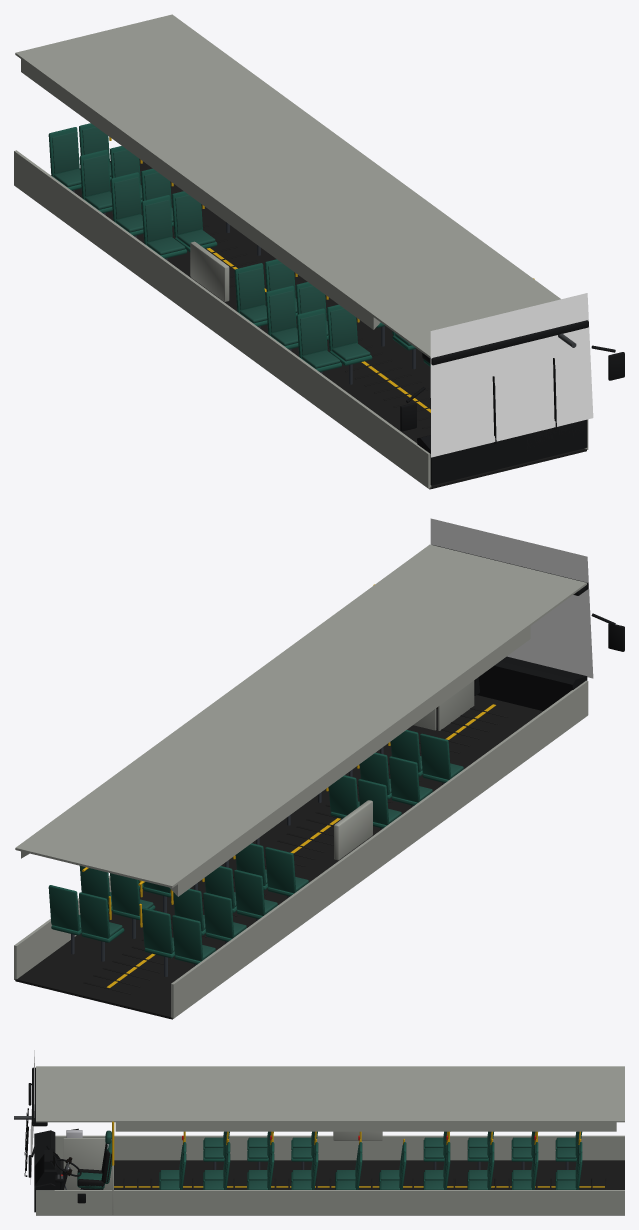
File: interior-bus.glb
3 views of the same model, one above another, from view 1: azimuth 30°, elevation 25°; view 2: azimuth 150°, elevation 25°; view 3: azimuth 270°, elevation 25° (orthographic). The views are drawn at different scales.
Parts seen in each view (by area): view 1: Cabin, RainGlass; view 2: Cabin, RainGlass; view 3: Cabin.
Part boxes in pixels (x1,y1,x2,y2): Cabin: [14, 14, 624, 489]; RainGlass: [430, 293, 593, 457]; Cabin: [14, 544, 624, 1019]; RainGlass: [430, 518, 593, 678]; Cabin: [14, 1066, 624, 1215].
Size of the model in its own units: 3.34 by 2.31 by 11.1.
